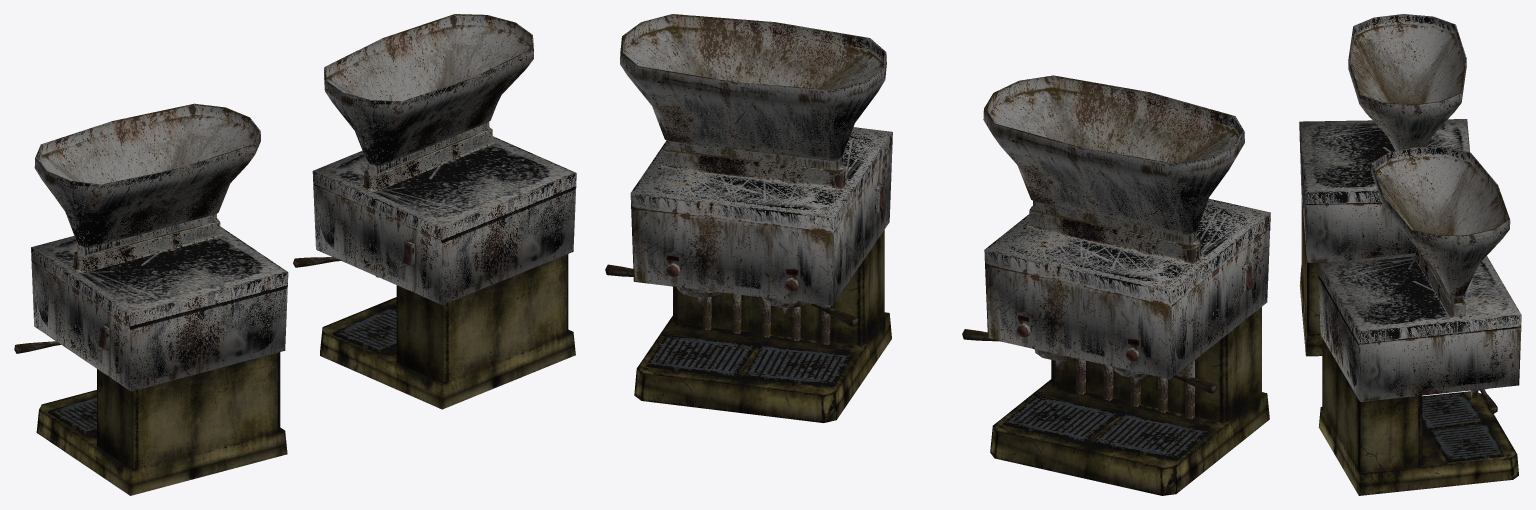
Rendered from coffee-machine.gltf.
3 views of the same model, side by side, from view 1: azimuth 30°, elevation 25°; view 2: azimuth 150°, elevation 25°; view 3: azimuth 270°, elevation 25° (orthographic). The views are drawn at different scales.
Parts seen in each view (by area): view 1: Bar5to2_036_Coffee_Machine_M_0; view 2: Bar5to2_036_Coffee_Machine_M_0; view 3: Bar5to2_036_Coffee_Machine_M_0.
Boxes of the visible parts, x1,y1,x2,y2 form: Bar5to2_036_Coffee_Machine_M_0: [14, 14, 576, 495]; Bar5to2_036_Coffee_Machine_M_0: [605, 14, 1270, 495]; Bar5to2_036_Coffee_Machine_M_0: [1299, 14, 1521, 495].
Bounding box in the file's own units: 1.03 × 0.5527 × 0.4288.
Materials: 1 (1 with a texture image).
